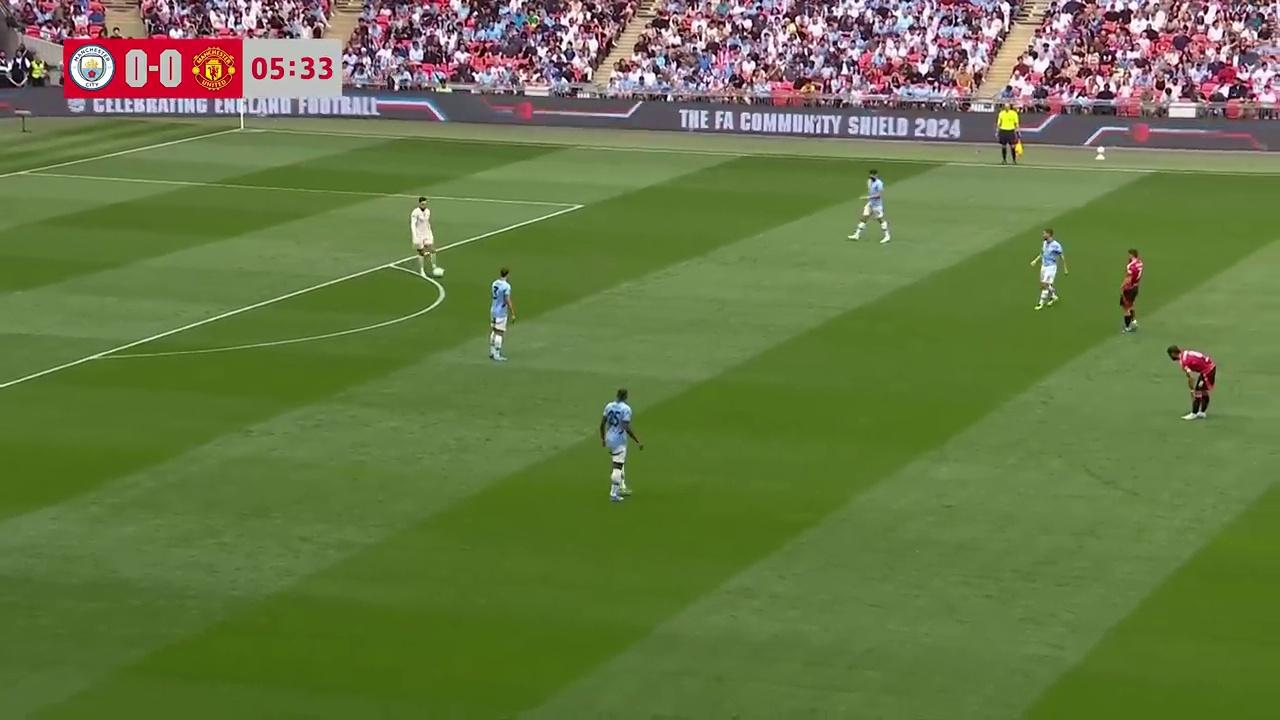ball: (433, 266, 447, 281)
player: (600, 397, 639, 502), (1165, 343, 1215, 418), (848, 169, 890, 242), (1030, 229, 1066, 310), (409, 196, 439, 276), (488, 269, 512, 361), (1120, 248, 1143, 333)
referee: (996, 110, 1021, 165)
